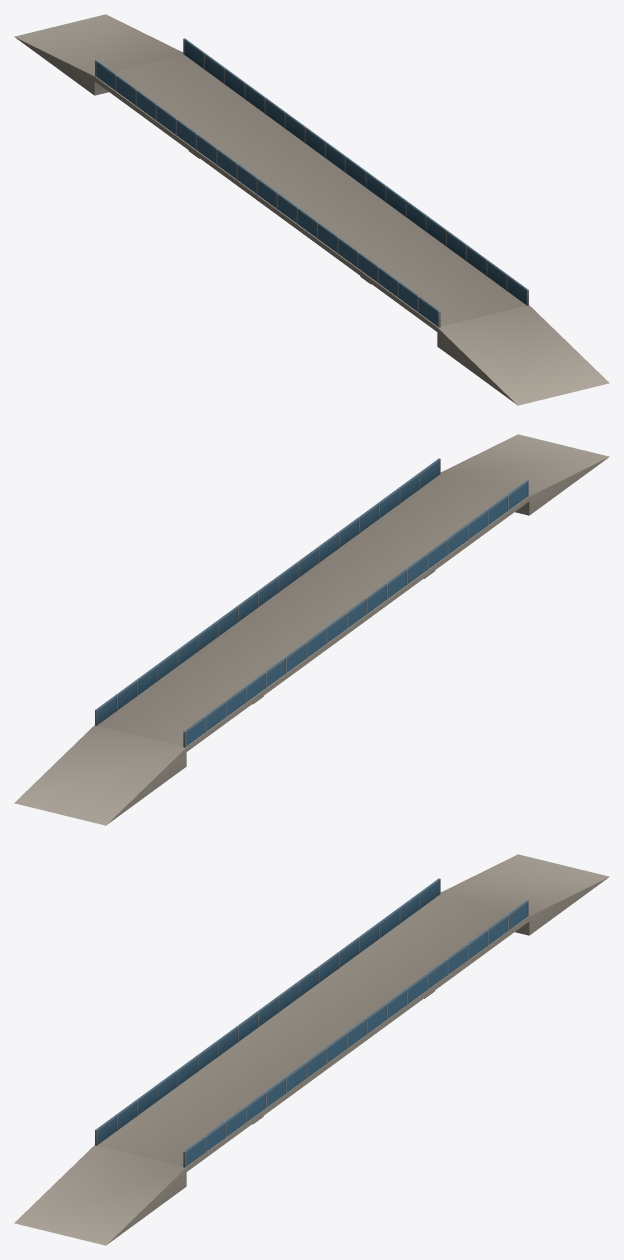
File: lake-footbridge.glb
The picture shows the model from 3 angles, top to bottom: view 1: azimuth 30°, elevation 25°; view 2: azimuth 150°, elevation 25°; view 3: azimuth 330°, elevation 25°; orthographic projection.
Parts seen in each view (by area): view 1: lake-footbridge; view 2: lake-footbridge; view 3: lake-footbridge.
Part boxes in pixels (x1=…): lake-footbridge: x1=14, y1=14, x2=609, y2=405; lake-footbridge: x1=14, y1=434, x2=609, y2=825; lake-footbridge: x1=14, y1=854, x2=609, y2=1245.
Size of the model in its own units: 8 by 2.9 by 76.
